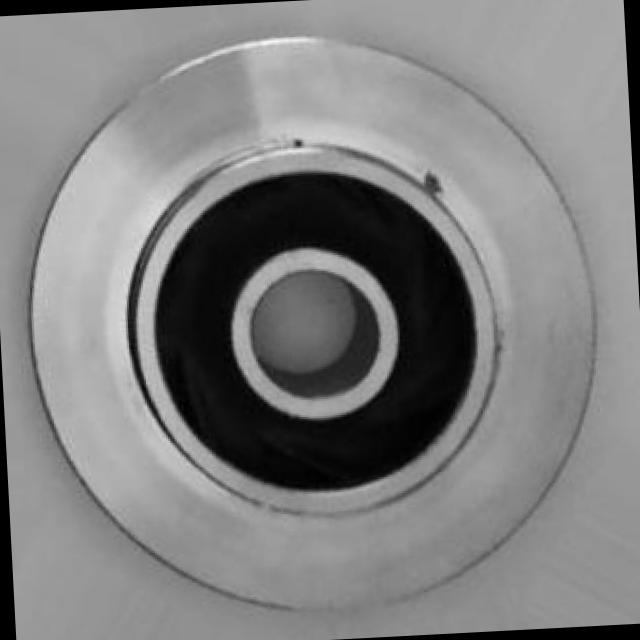Defect: (419, 163, 454, 206)
